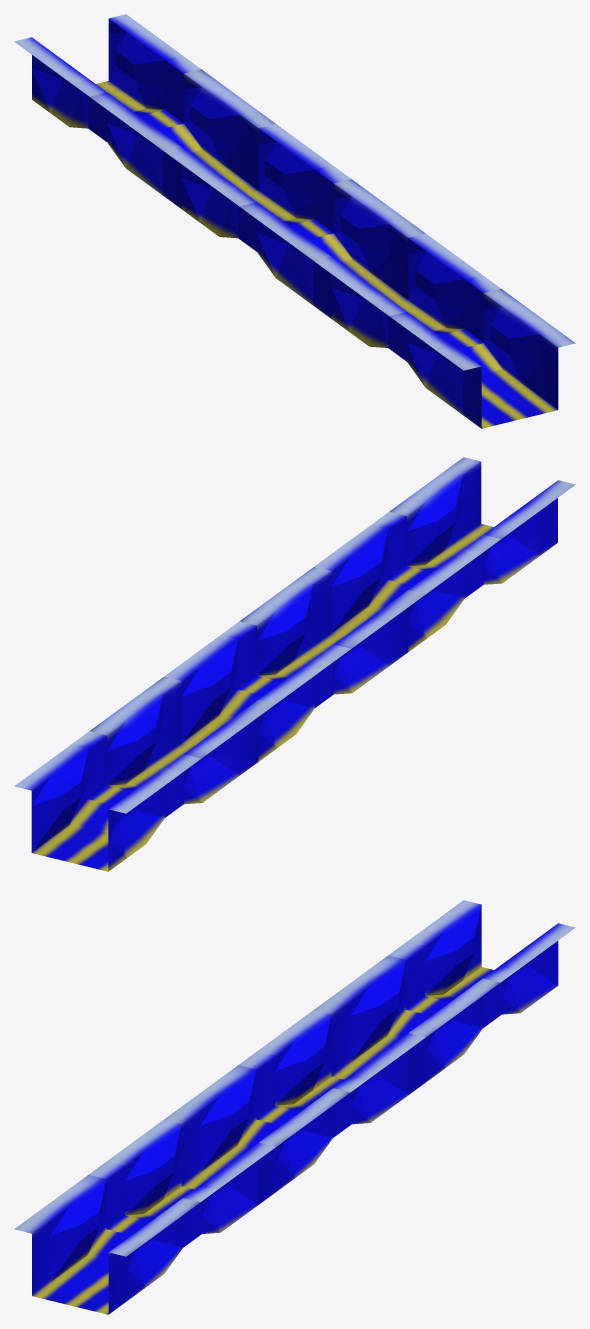
File: stage.obj
3 renders of one model, top to bottom at view 1: azimuth 30°, elevation 25°; view 2: azimuth 150°, elevation 25°; view 3: azimuth 330°, elevation 25°, orthographic.
Parts seen in each view (by area): view 1: Mesh; view 2: Mesh; view 3: Mesh.
Boxes of the visible parts, <box> form: Mesh: <box>14,14,575,428</box>; Mesh: <box>14,457,575,871</box>; Mesh: <box>14,900,575,1314</box>.
Size of the model in its own units: 22.93 by 12.19 by 159.
